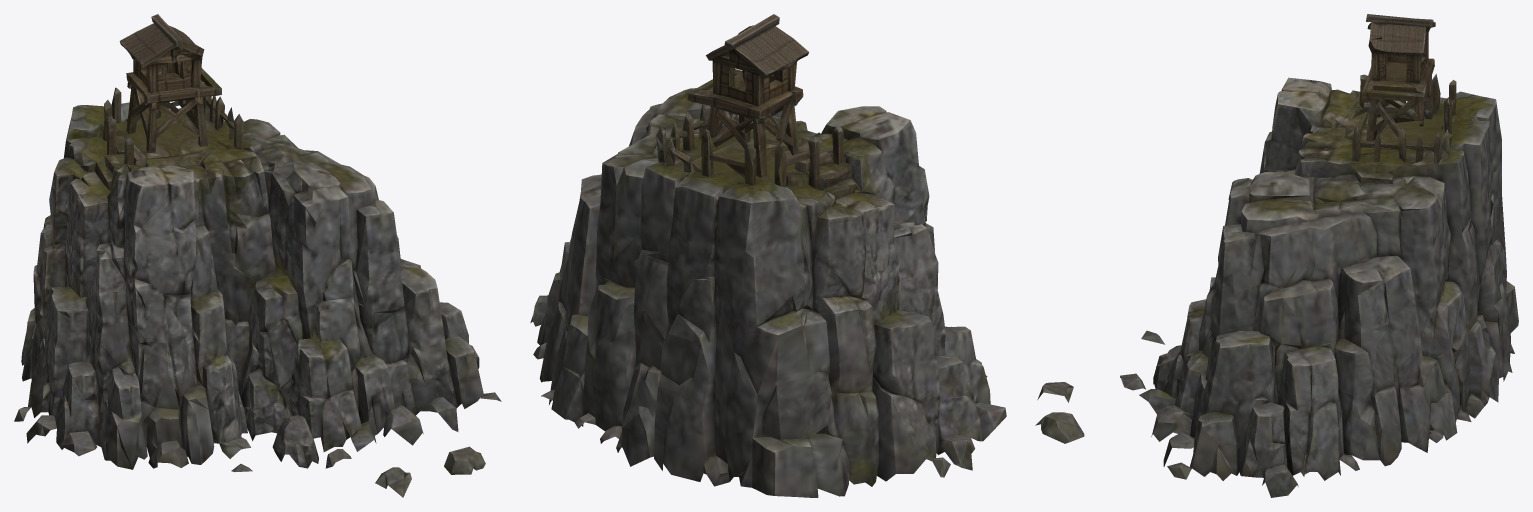
The model's file is cliffs.glb.
3 views of the same model, side by side, from view 1: azimuth 30°, elevation 25°; view 2: azimuth 150°, elevation 25°; view 3: azimuth 270°, elevation 25° (orthographic). The views are drawn at different scales.
Size of the model in its own units: 1.95 by 1.64 by 1.97.
1 material, 1 textured.
